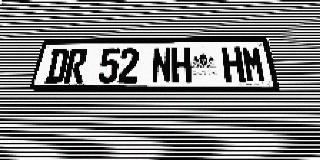2: (118, 48, 139, 83)
5: (98, 48, 120, 83)
D: (44, 49, 70, 83)
H: (221, 47, 246, 83), (172, 47, 192, 83)
M: (241, 47, 267, 83)
N: (151, 48, 171, 83)
R: (63, 49, 88, 83)
